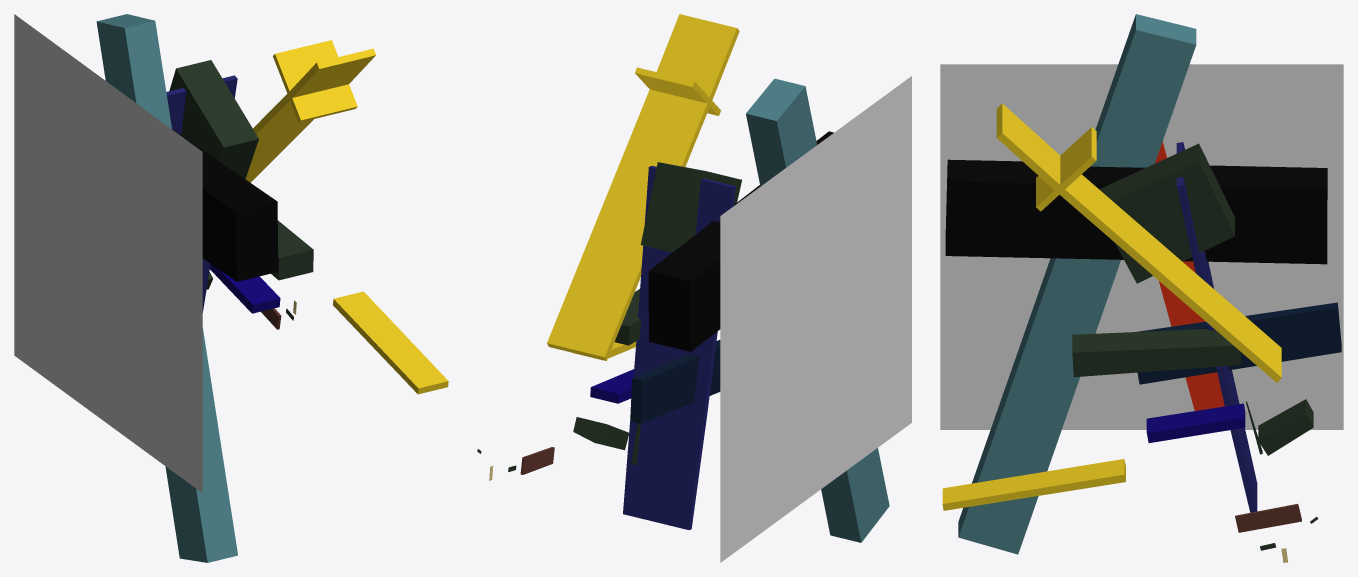
File: kartiny_maslom2.fbx
The picture shows the model from 3 angles, left to right: view 1: azimuth 30°, elevation 25°; view 2: azimuth 150°, elevation 25°; view 3: azimuth 270°, elevation 25°; orthographic projection. The views are drawn at different scales.
Parts seen in each view (by area): view 1: Plane.025, Cube.001, Cube, Cube.014, Cube.015, Cube.011, Cube.004, Cube.013, Cube.012; view 2: Plane.025, Cube.014, Cube.012, Cube.001, Cube, Cube.015, Cube.003, Cube.005, Cube.013, Cube.004, Cube.006; view 3: Plane.025, Cube.001, Cube, Cube.014, Cube.015, Cube.004, Cube.003, Cube.011, Cube.012, Cube.013, Cube.002, Cube.005 (+1 smaller).
Boxes of the visible parts, x1=… form: Plane.025: x1=14, y1=14, x2=202, y2=492; Cube.001: x1=96, y1=14, x2=237, y2=562; Cube: x1=172, y1=129, x2=278, y2=281; Cube.014: x1=245, y1=40, x2=375, y2=182; Cube.015: x1=169, y1=60, x2=258, y2=179; Cube.011: x1=333, y1=291, x2=448, y2=394; Cube.004: x1=271, y1=220, x2=313, y2=280; Cube.013: x1=210, y1=264, x2=280, y2=313; Cube.012: x1=166, y1=75, x2=237, y2=312; Plane.025: x1=720, y1=76, x2=911, y2=562; Cube.014: x1=547, y1=14, x2=739, y2=360; Cube.012: x1=623, y1=165, x2=736, y2=529; Cube.001: x1=746, y1=78, x2=889, y2=542; Cube: x1=648, y1=131, x2=833, y2=351; Cube.015: x1=640, y1=162, x2=741, y2=252; Cube.003: x1=630, y1=340, x2=720, y2=423; Cube.005: x1=573, y1=417, x2=629, y2=450; Cube.013: x1=590, y1=369, x2=633, y2=403; Cube.004: x1=614, y1=289, x2=641, y2=345; Cube.006: x1=520, y1=447, x2=554, y2=474; Plane.025: x1=940, y1=64, x2=1343, y2=429; Cube.001: x1=958, y1=14, x2=1196, y2=554; Cube: x1=945, y1=159, x2=1327, y2=264; Cube.014: x1=996, y1=103, x2=1281, y2=383; Cube.015: x1=1099, y1=143, x2=1234, y2=283; Cube.004: x1=1072, y1=329, x2=1240, y2=377; Cube.003: x1=1137, y1=302, x2=1341, y2=384; Cube.011: x1=942, y1=459, x2=1125, y2=510; Cube.012: x1=1176, y1=142, x2=1257, y2=512; Cube.013: x1=1146, y1=403, x2=1245, y2=442; Cube.002: x1=1155, y1=141, x2=1224, y2=410; Cube.005: x1=1258, y1=399, x2=1313, y2=455.
Bounding box in the file's own units: 817 × 1510 × 1052.
